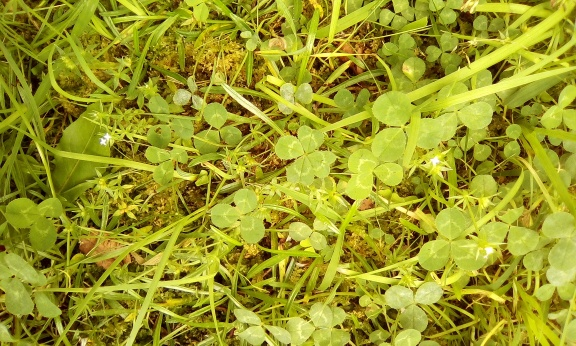4leaf: (275, 125, 336, 186)
